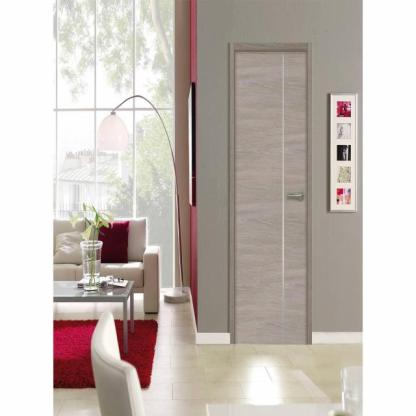door: (224, 36, 316, 354)
